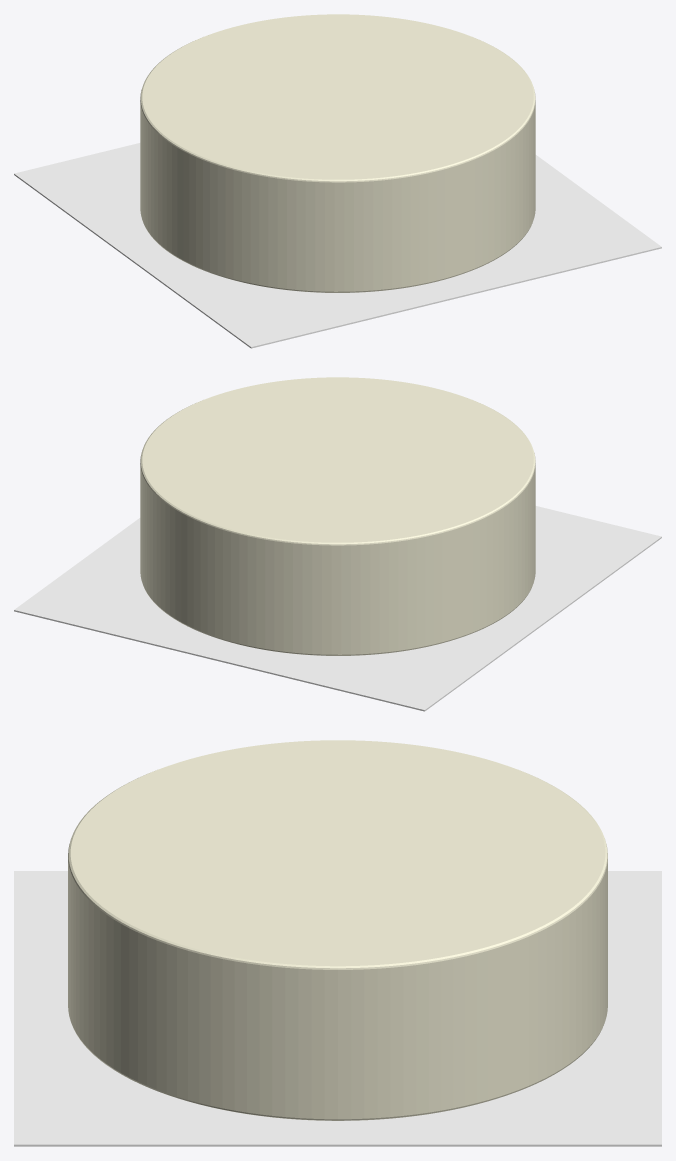
Rendered from cake_10in_layers2_v26.glb.
3 views of the same model, one above another, from view 1: azimuth 30°, elevation 25°; view 2: azimuth 150°, elevation 25°; view 3: azimuth 270°, elevation 25° (orthographic). The views are drawn at different scales.
Parts seen in each view (by area): view 1: Cake, Board; view 2: Cake, Board; view 3: Cake, Board.
Boxes of the visible parts, left/top/right/bottom form: Cake: left=140, top=14, right=535, bottom=292; Board: left=14, top=143, right=661, bottom=348; Cake: left=140, top=377, right=535, bottom=655; Board: left=14, top=506, right=661, bottom=711; Cake: left=68, top=740, right=607, bottom=1120; Board: left=14, top=871, right=661, bottom=1146.
Bounding box in the file's own units: 0.3 × 0.08 × 0.3.
